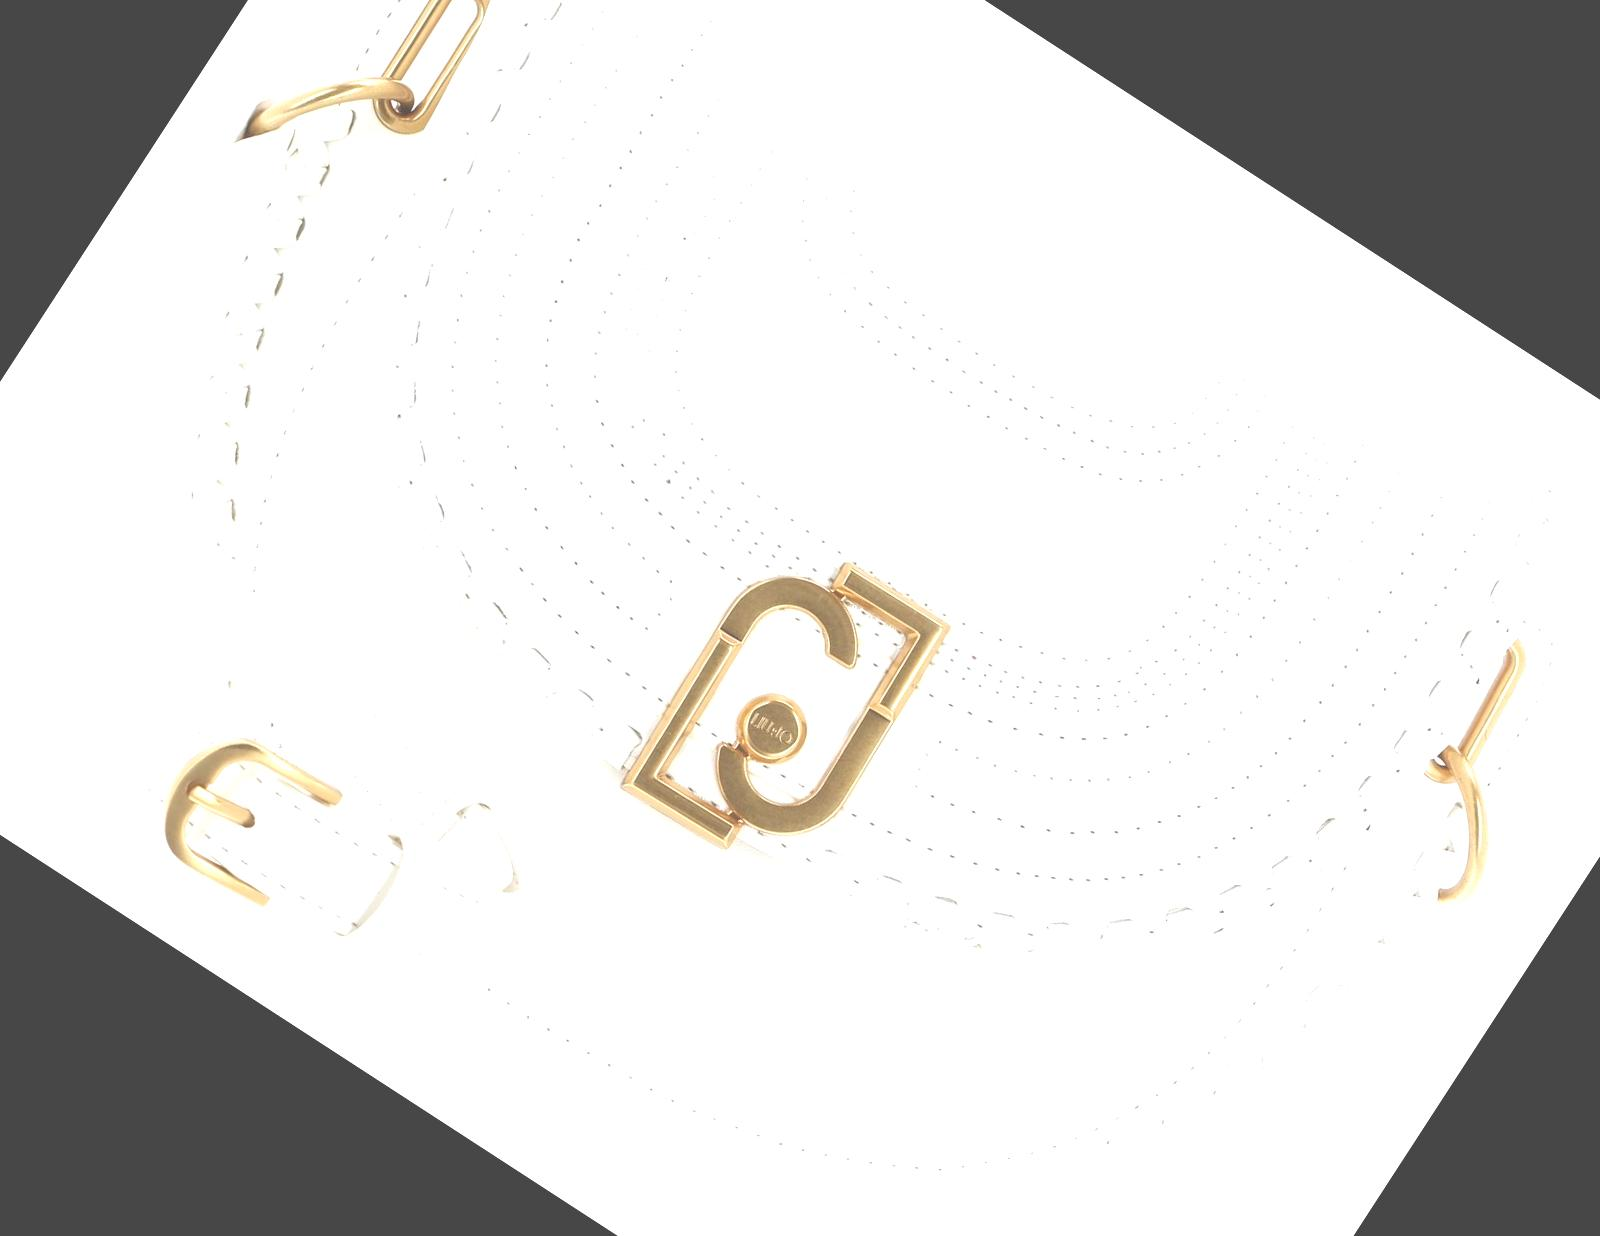LIU-JO: (615, 522, 956, 896)
